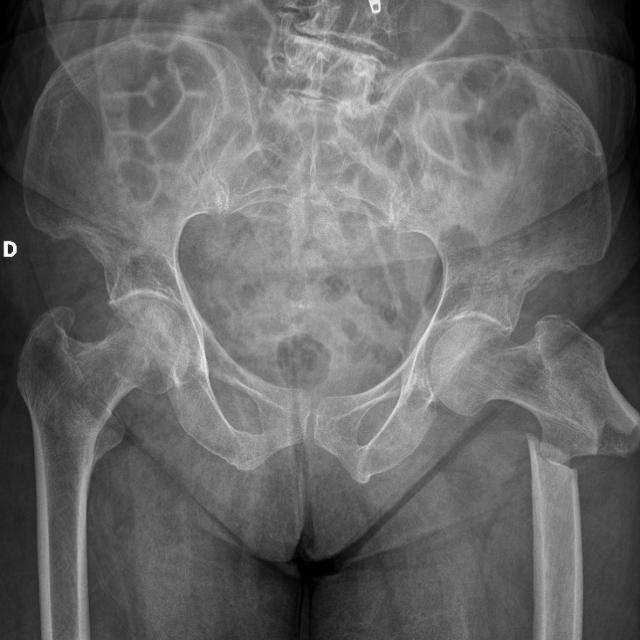left-subtrochanteric: (430, 314, 640, 466), (525, 433, 581, 520)
normal-right: (17, 299, 190, 553)
